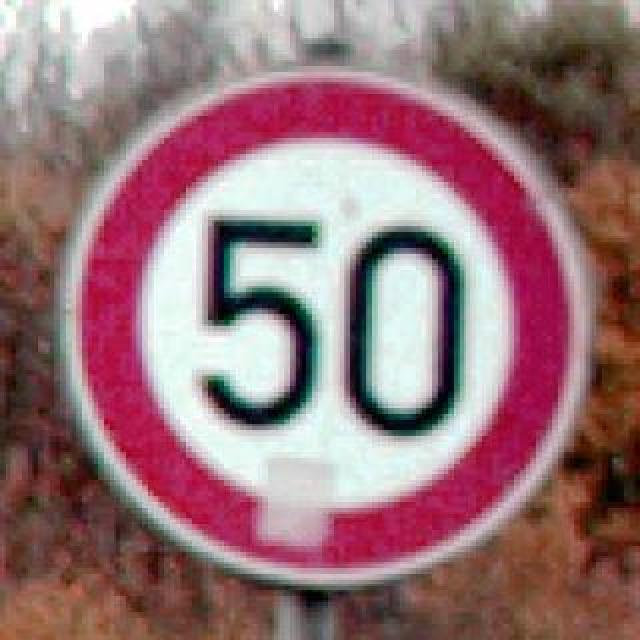50 kph: (60, 62, 580, 580)
